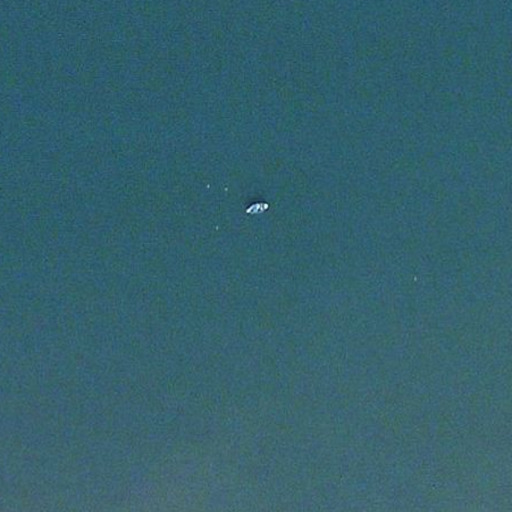ship: (243, 199, 271, 218)
